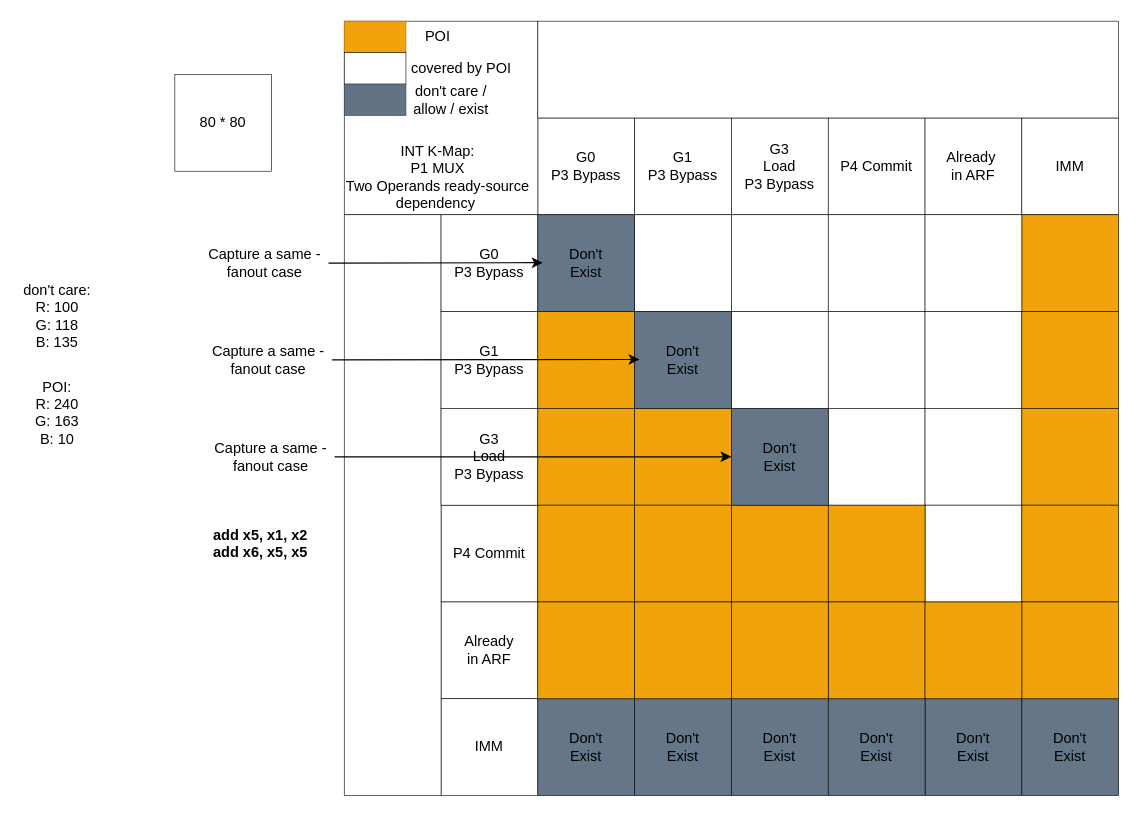
The diagram is 1140 pixels wide and 817 high, and some of its shapes have lost their labels. Each missing label, with the centre of its shape:
"Data Source 1 ready at P1 MUX" goes at point (392, 504).
"Data source 2 ready at P1 MUX" goes at point (827, 69).
